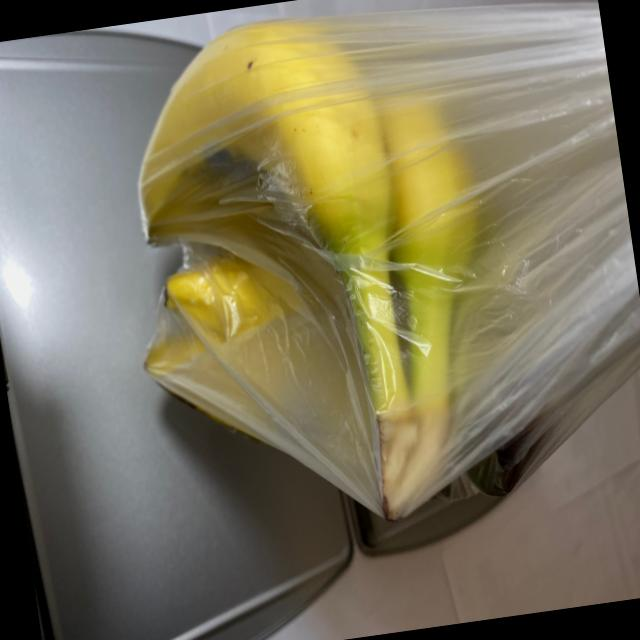banana: (99, 0, 550, 557)
